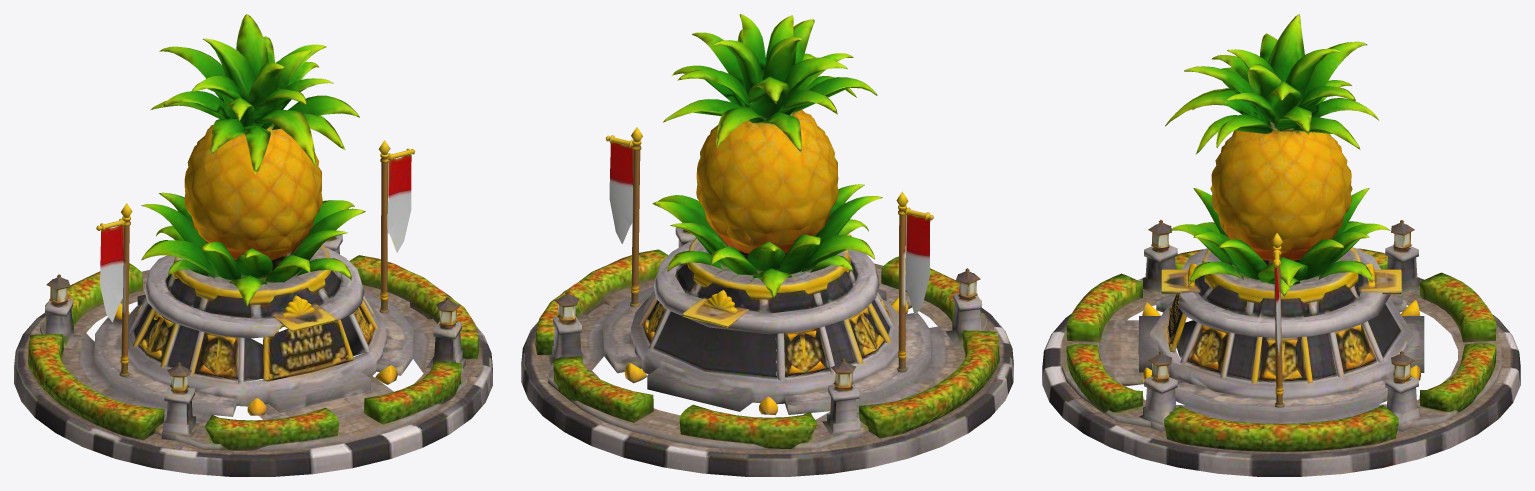
The model's file is tugu-nanas.glb.
The picture shows the model from 3 angles, left to right: view 1: azimuth 30°, elevation 25°; view 2: azimuth 150°, elevation 25°; view 3: azimuth 270°, elevation 25°; orthographic projection. The views are drawn at different scales.
Visible parts, largest first — view 1: tripo_node_e4a8913b-0499-4053-a591-859712ff262b; view 2: tripo_node_e4a8913b-0499-4053-a591-859712ff262b; view 3: tripo_node_e4a8913b-0499-4053-a591-859712ff262b.
Part boxes in pixels (x1,y1,x2,y2): tripo_node_e4a8913b-0499-4053-a591-859712ff262b: [14, 14, 492, 476]; tripo_node_e4a8913b-0499-4053-a591-859712ff262b: [521, 14, 1013, 476]; tripo_node_e4a8913b-0499-4053-a591-859712ff262b: [1042, 14, 1520, 476].
Bounding box in the file's own units: 0.9995 × 0.7866 × 0.9995.
Materials: 1 (1 with a texture image).
